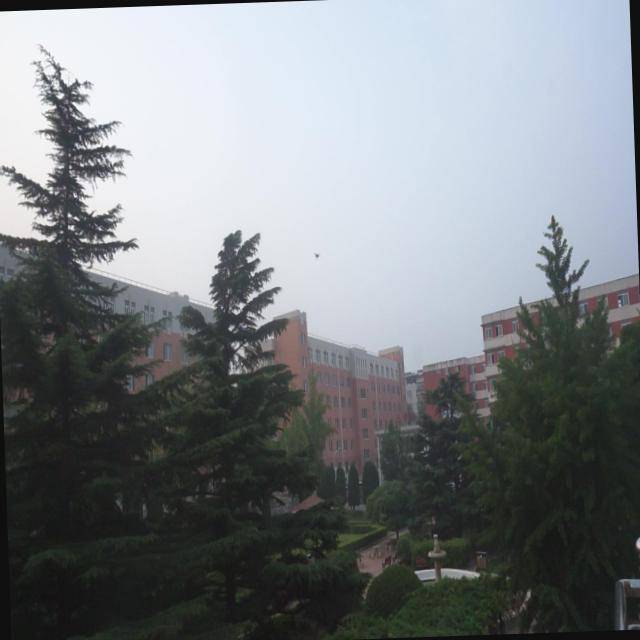drone: (311, 248, 322, 262)
